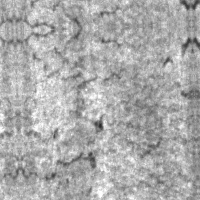crazing: (17, 68, 151, 150), (15, 27, 131, 91), (20, 146, 99, 199)
